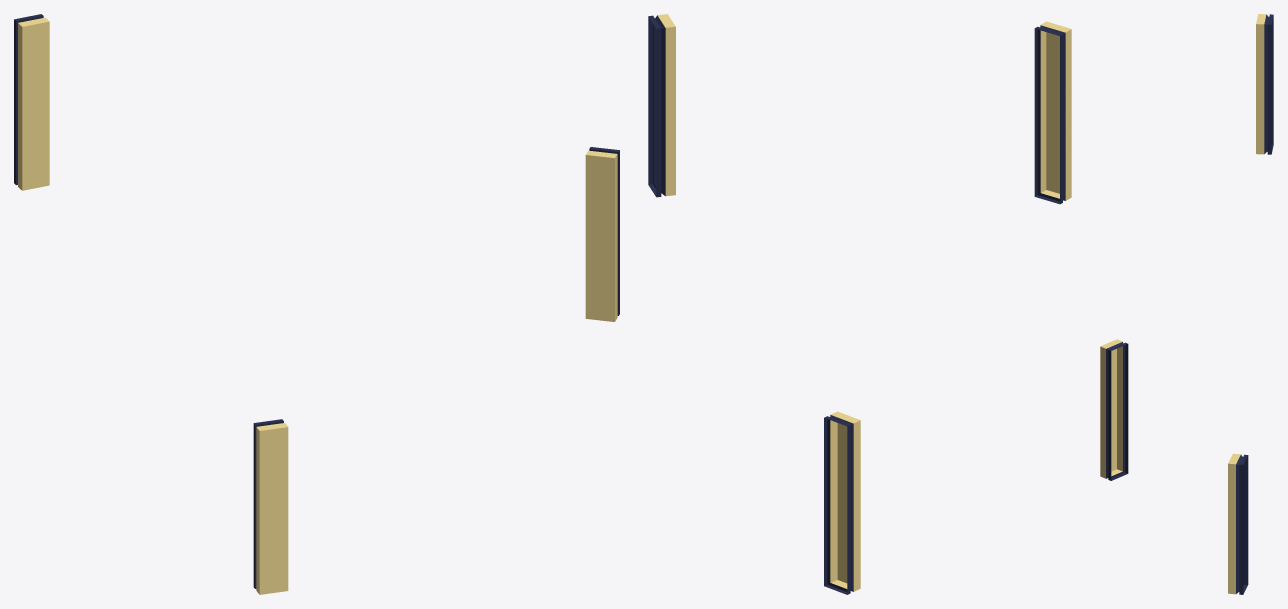
Rendered from SM_Hall_trading_sidelights.fbx.
3 renders of one model, left to right at view 1: azimuth 30°, elevation 25°; view 2: azimuth 150°, elevation 25°; view 3: azimuth 270°, elevation 25°, orthographic. The views are drawn at different scales.
Parts seen in each view (by area): view 1: SM_Hall_trading_sidelights; view 2: SM_Hall_trading_sidelights; view 3: SM_Hall_trading_sidelights.
Part boxes in pixels (box(x1,y1,x2,y2)): SM_Hall_trading_sidelights: box(14, 14, 619, 594); SM_Hall_trading_sidelights: box(648, 14, 1071, 594); SM_Hall_trading_sidelights: box(1100, 14, 1273, 594).
Size of the model in its own units: 624 by 721 by 234.
